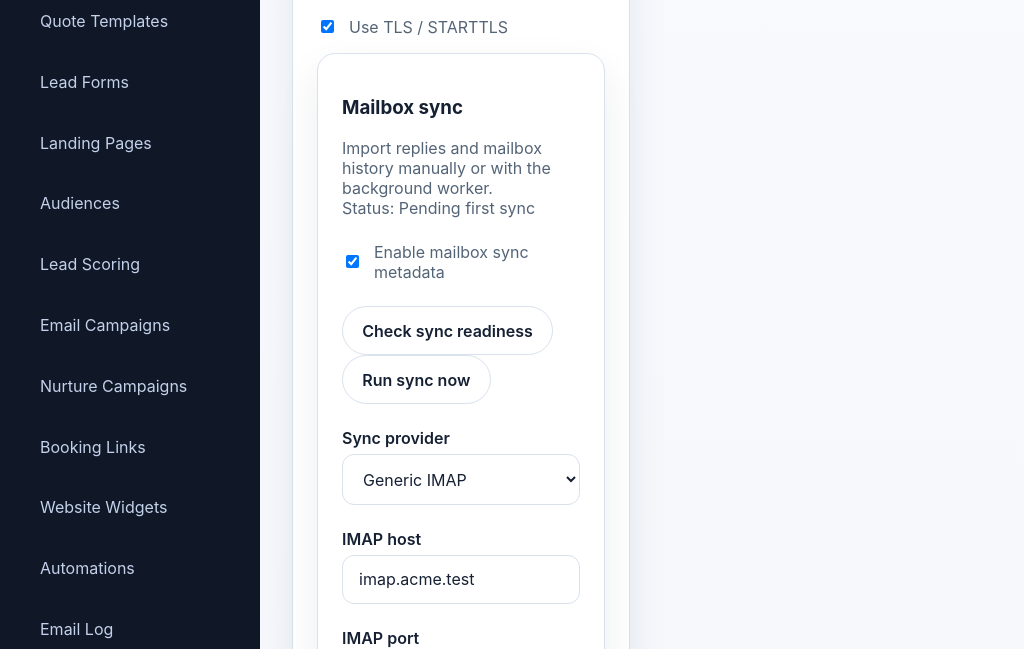
Scenario: settings email account route › checks mailbox sync readiness for a saved account
(page scrolled)
Click the button "Check sync readiness" at [448, 330], box [342,306,553,355]
(page scrolled)
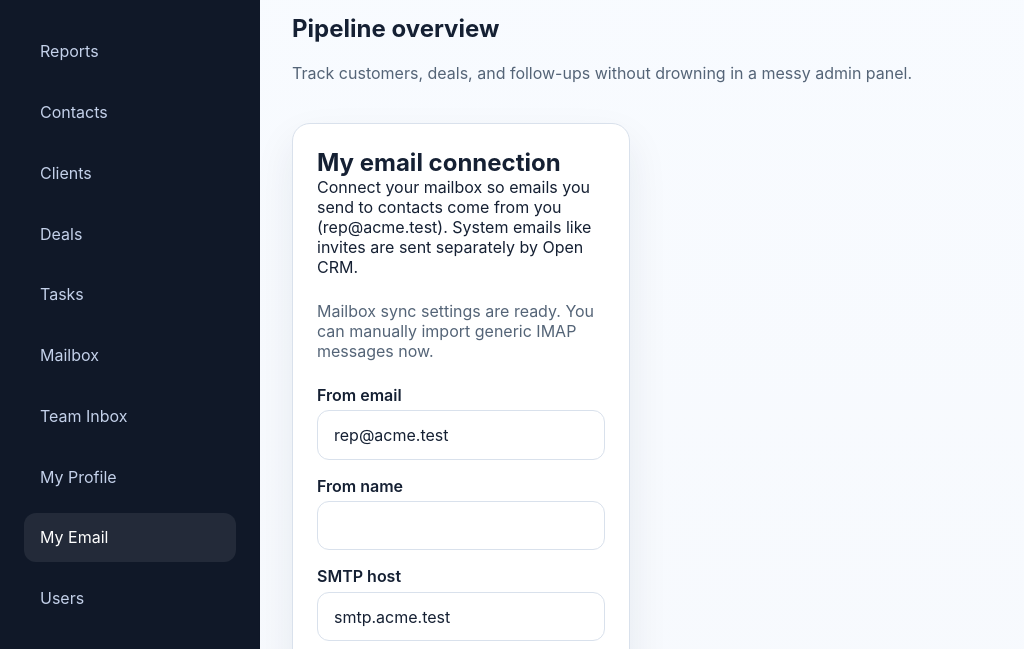
Check: the text "Mailbox sync settings are ready" is shown, box [317,301,594,361]
